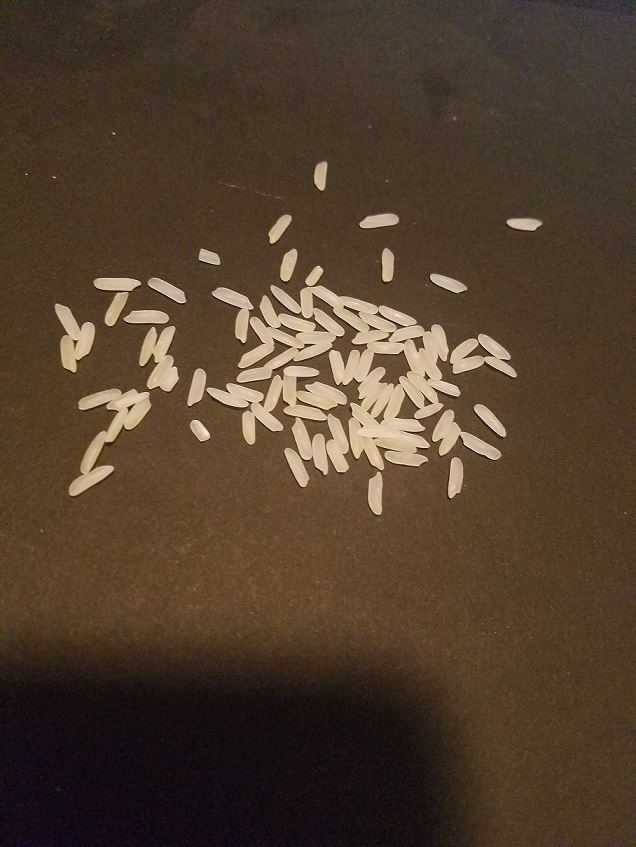egg: (68, 463, 114, 495), (460, 430, 502, 462), (80, 429, 108, 474), (147, 274, 188, 304), (473, 403, 508, 437), (52, 301, 82, 340), (312, 305, 347, 337), (354, 366, 386, 399), (476, 331, 512, 360), (377, 303, 418, 328), (251, 401, 284, 432), (151, 324, 177, 363), (284, 448, 310, 487), (305, 380, 347, 404), (235, 343, 275, 368), (104, 290, 131, 327), (332, 307, 369, 334), (269, 282, 301, 313), (408, 371, 439, 403), (290, 417, 313, 460), (206, 386, 249, 408), (148, 354, 174, 390), (399, 374, 425, 410), (370, 381, 395, 418), (78, 388, 122, 409), (355, 311, 399, 332), (429, 271, 471, 293), (417, 347, 444, 381), (482, 354, 519, 378), (309, 285, 344, 310), (268, 325, 306, 348), (124, 398, 152, 429), (266, 213, 294, 244), (448, 337, 480, 364), (211, 287, 252, 308), (336, 294, 379, 314), (124, 307, 171, 325), (103, 409, 127, 444), (75, 320, 96, 360), (138, 326, 158, 368), (225, 380, 265, 401), (358, 381, 385, 412), (382, 383, 404, 421), (363, 438, 388, 471), (276, 313, 317, 333), (186, 368, 207, 407), (328, 412, 349, 451), (294, 341, 333, 362), (358, 211, 401, 230), (352, 345, 374, 382), (258, 293, 281, 328), (403, 339, 425, 375), (283, 404, 329, 421), (295, 389, 332, 410), (265, 346, 300, 368), (430, 410, 454, 442), (424, 377, 462, 397), (438, 422, 461, 455), (248, 316, 275, 344), (311, 433, 329, 475), (369, 471, 385, 518), (327, 438, 349, 472), (264, 374, 284, 411), (106, 387, 138, 410), (348, 417, 365, 460), (59, 333, 78, 371), (385, 451, 429, 467), (388, 324, 425, 343), (351, 328, 391, 345), (94, 276, 142, 290), (430, 323, 447, 362), (278, 248, 298, 281), (375, 437, 416, 453), (448, 458, 464, 499), (234, 306, 251, 344), (451, 354, 485, 373), (296, 330, 338, 345), (356, 426, 400, 440), (236, 366, 272, 383), (379, 247, 396, 283), (311, 157, 329, 191), (188, 418, 212, 443), (381, 418, 427, 431), (396, 431, 431, 448), (328, 349, 344, 385), (422, 330, 438, 366), (415, 401, 443, 421), (343, 349, 358, 385), (116, 391, 149, 407), (284, 364, 321, 378), (369, 340, 406, 354), (160, 365, 179, 392), (282, 373, 297, 407), (304, 263, 324, 287), (242, 411, 256, 445), (300, 287, 314, 319), (506, 217, 535, 232), (197, 246, 221, 264)
